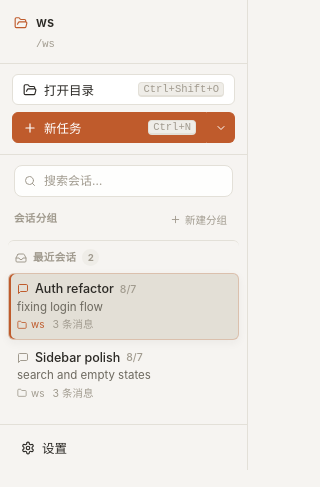
Test: Sidebar › filters sessions by title and preview, with a clear button
Type "auth" into the field labelled "搜索会话".
click(132, 181); type("auth")  # box 42,171 -> 223,191
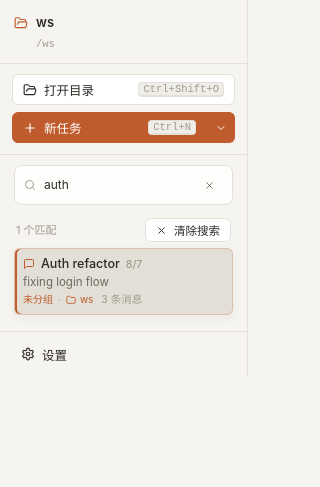
expect the text "Auth refactor" is shown: met, box 41,256 -> 120,273
expect the button "Sidebar polish" is gone: met
expect the text "1 个匹配" is shown: met, box 16,222 -> 57,238
Replace the text in the field named "搜索会话" with "search" at (116, 185), box 42,175 -> 189,195
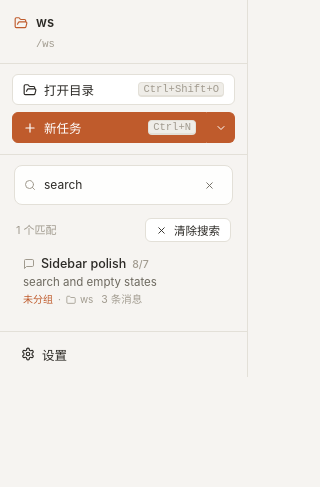
expect the text "Sidebar polish" is shown: met, box 41,256 -> 126,273
expect the button "Auth refactor" is gone: met
# Clear restores the full list.
Click the button named "清除搜索".
click(209, 185)  # box 195,171 -> 223,199
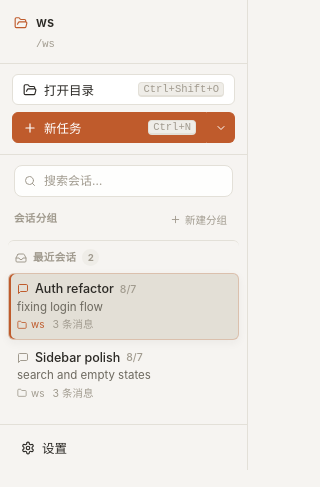
expect the text "Sidebar polish" is shown: met, box 35,350 -> 120,366
expect the text "Auth refactor" is shown: met, box 35,281 -> 114,298
expect the field labelled "搜索会话" is empty: met, box 42,171 -> 223,191
